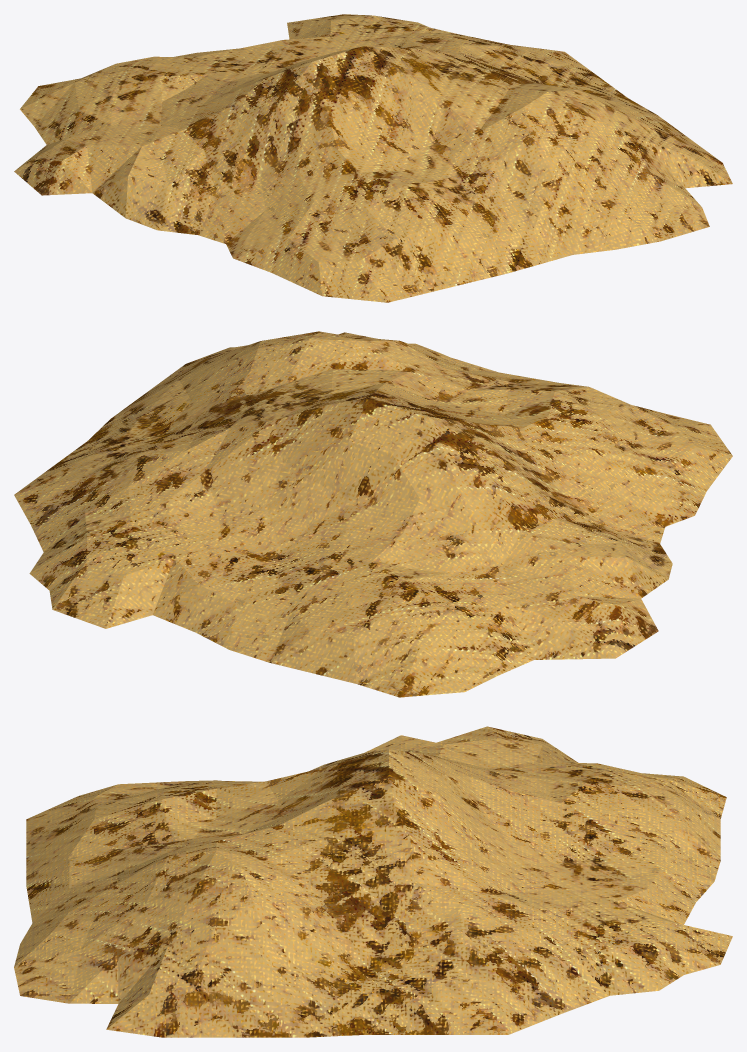
Rendered from hay.fbx.
The picture shows the model from 3 angles, top to bottom: view 1: azimuth 30°, elevation 25°; view 2: azimuth 150°, elevation 25°; view 3: azimuth 270°, elevation 25°; orthographic projection. The views are drawn at different scales.
Visible parts, largest first — view 1: Gold_Pile; view 2: Gold_Pile; view 3: Gold_Pile.
Boxes of the visible parts, x1,y1,x2,y2 form: Gold_Pile: [14, 14, 732, 302]; Gold_Pile: [14, 331, 732, 697]; Gold_Pile: [14, 726, 732, 1037].
Bounding box in the file's own units: 258 × 48.01 × 261.
1 material, 1 textured.
